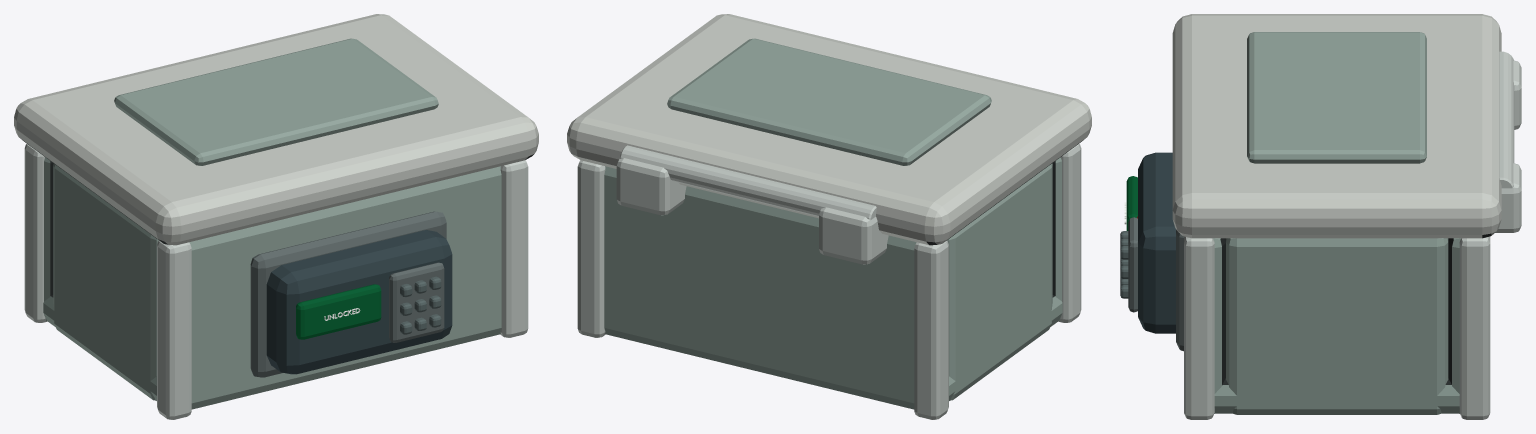
File: Coffre compact securise.glb
The picture shows the model from 3 angles, left to right: view 1: azimuth 30°, elevation 25°; view 2: azimuth 150°, elevation 25°; view 3: azimuth 270°, elevation 25°; orthographic projection. The views are drawn at different scales.
Visible parts, largest first — view 1: CHEST_LOCK_Attached_Flat_Lid, CHEST_LOCK_Front_Wall, CHEST_LOCK_Lid_Top_Inset, CHEST_LOCK_Left_Wall, CHEST_LOCK_Electronic_Control_Housing, CHEST_LOCK_Corner_Post_-1.0_-1.0, CHEST_LOCK_Control_Mounting_Plate, CHEST_LOCK_Corner_Post_1.0_-1.0, CHEST_LOCK_Corner_Post_-1.0_1.0, CHEST_LOCK_Bottom_Slab, CHEST_LOCK_Control_Screen_State_Green_Or_Red, CHEST_LOCK_Raised_Numeric_Keypad_Backplate (+1 smaller); view 2: CHEST_LOCK_Back_Wall, CHEST_LOCK_Attached_Flat_Lid, CHEST_LOCK_Lid_Top_Inset, CHEST_LOCK_Left_Wall, CHEST_LOCK_Corner_Post_-1.0_1.0, CHEST_LOCK_Rear_Hinge_Rod, CHEST_LOCK_Corner_Post_1.0_1.0, CHEST_LOCK_Bottom_Slab, CHEST_LOCK_Corner_Post_-1.0_-1.0, CHEST_LOCK_Rear_Hinge_Bridge_0, CHEST_LOCK_Rear_Hinge_Bridge_1, CHEST_LOCK_Front_Wall; view 3: CHEST_LOCK_Attached_Flat_Lid, CHEST_LOCK_Right_Wall, CHEST_LOCK_Lid_Top_Inset, CHEST_LOCK_Electronic_Control_Housing, CHEST_LOCK_Corner_Post_1.0_1.0, CHEST_LOCK_Corner_Post_1.0_-1.0, CHEST_LOCK_Bottom_Slab, CHEST_LOCK_Rear_Hinge_Rod, CHEST_LOCK_Front_Wall, CHEST_LOCK_Back_Wall, CHEST_LOCK_Rear_Hinge_Bridge_1, CHEST_LOCK_Raised_Numeric_Keypad_Backplate (+3 smaller).
Boxes of the visible parts, <box> form: CHEST_LOCK_Attached_Flat_Lid: <box>14,14,538,245</box>; CHEST_LOCK_Front_Wall: <box>189,166,501,409</box>; CHEST_LOCK_Lid_Top_Inset: <box>114,38,438,165</box>; CHEST_LOCK_Left_Wall: <box>53,163,158,400</box>; CHEST_LOCK_Electronic_Control_Housing: <box>266,230,452,374</box>; CHEST_LOCK_Corner_Post_-1.0_-1.0: <box>157,240,191,419</box>; CHEST_LOCK_Control_Mounting_Plate: <box>250,211,446,377</box>; CHEST_LOCK_Corner_Post_1.0_-1.0: <box>500,160,528,337</box>; CHEST_LOCK_Corner_Post_-1.0_1.0: <box>24,144,47,322</box>; CHEST_LOCK_Bottom_Slab: <box>43,295,501,401</box>; CHEST_LOCK_Control_Screen_State_Green_Or_Red: <box>296,284,381,339</box>; CHEST_LOCK_Raised_Numeric_Keypad_Backplate: <box>389,262,444,342</box>; CHEST_LOCK_Back_Wall: <box>604,166,916,409</box>; CHEST_LOCK_Attached_Flat_Lid: <box>567,14,1091,245</box>; CHEST_LOCK_Lid_Top_Inset: <box>667,38,991,165</box>; CHEST_LOCK_Left_Wall: <box>947,163,1052,400</box>; CHEST_LOCK_Corner_Post_-1.0_1.0: <box>914,240,948,419</box>; CHEST_LOCK_Rear_Hinge_Rod: <box>620,145,876,219</box>; CHEST_LOCK_Corner_Post_1.0_1.0: <box>577,160,605,337</box>; CHEST_LOCK_Bottom_Slab: <box>604,295,1062,401</box>; CHEST_LOCK_Corner_Post_-1.0_-1.0: <box>1058,144,1081,322</box>; CHEST_LOCK_Rear_Hinge_Bridge_0: <box>819,207,888,264</box>; CHEST_LOCK_Rear_Hinge_Bridge_1: <box>616,158,686,215</box>; CHEST_LOCK_Front_Wall: <box>1052,157,1061,320</box>; CHEST_LOCK_Attached_Flat_Lid: <box>1172,14,1501,238</box>; CHEST_LOCK_Right_Wall: <box>1226,238,1448,414</box>; CHEST_LOCK_Lid_Top_Inset: <box>1247,32,1426,163</box>; CHEST_LOCK_Electronic_Control_Housing: <box>1138,152,1175,333</box>; CHEST_LOCK_Corner_Post_1.0_1.0: <box>1459,236,1490,419</box>; CHEST_LOCK_Corner_Post_1.0_-1.0: <box>1184,236,1214,419</box>; CHEST_LOCK_Bottom_Slab: <box>1214,378,1459,413</box>; CHEST_LOCK_Rear_Hinge_Rod: <box>1499,51,1514,188</box>; CHEST_LOCK_Front_Wall: <box>1213,238,1225,413</box>; CHEST_LOCK_Back_Wall: <box>1448,238,1460,413</box>; CHEST_LOCK_Rear_Hinge_Bridge_1: <box>1495,163,1521,232</box>; CHEST_LOCK_Raised_Numeric_Keypad_Backplate: <box>1128,217,1137,312</box>.
Bounding box in the file's own units: 0.568 × 0.328 × 0.498.
